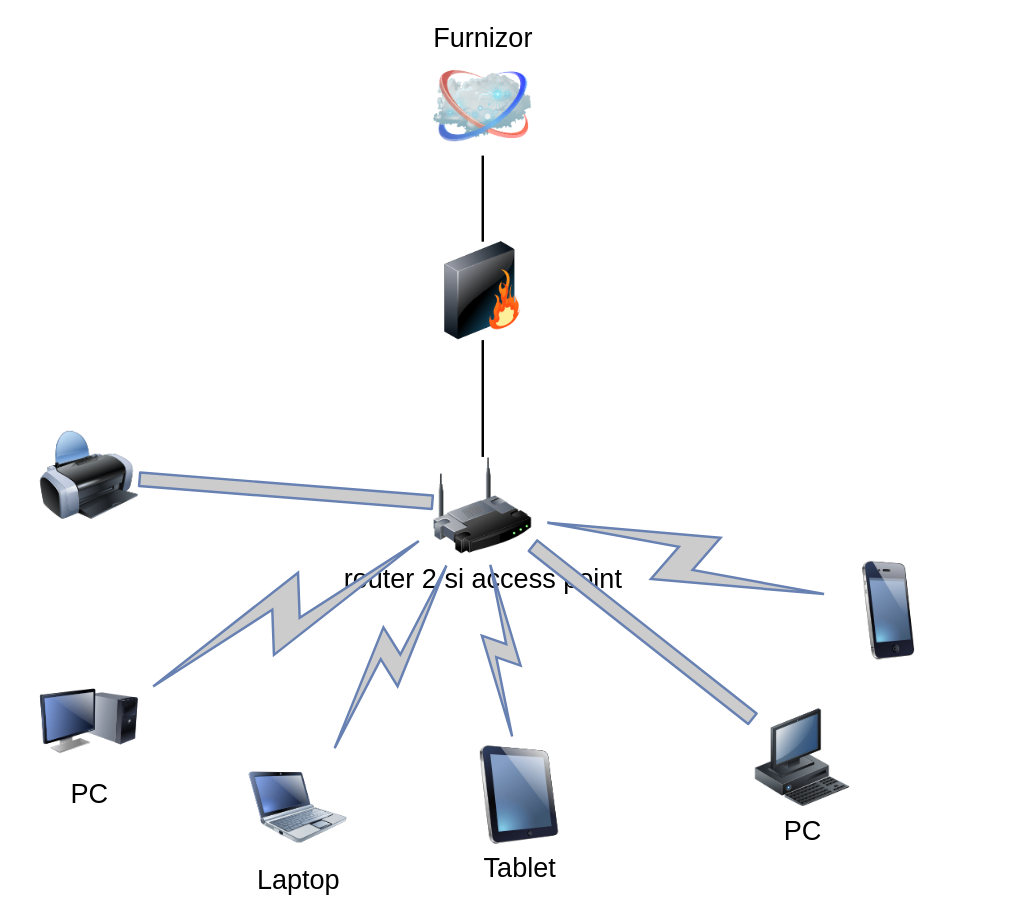
This 1020x918 diagram has some shape labels left out. The centre of each missing label's shape, as x and y in pixels:
"Imprimanta" goes at [88,475].
"Mobile" goes at [888,610].
"Router care are intrare prin fibra optica" goes at [482,290].
